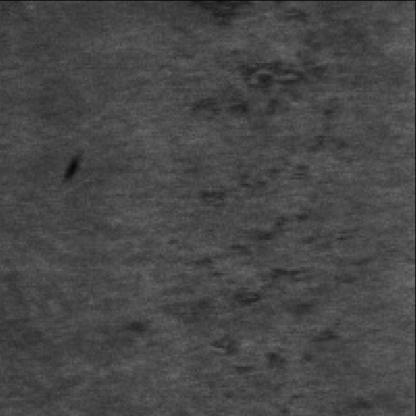rolled-in_scale: (172, 146, 362, 370), (171, 48, 337, 135)
